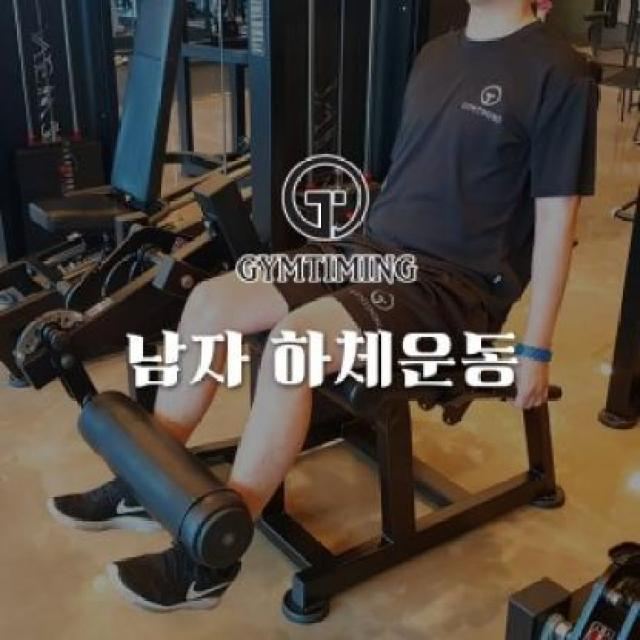leg extension: (16, 0, 598, 622)
